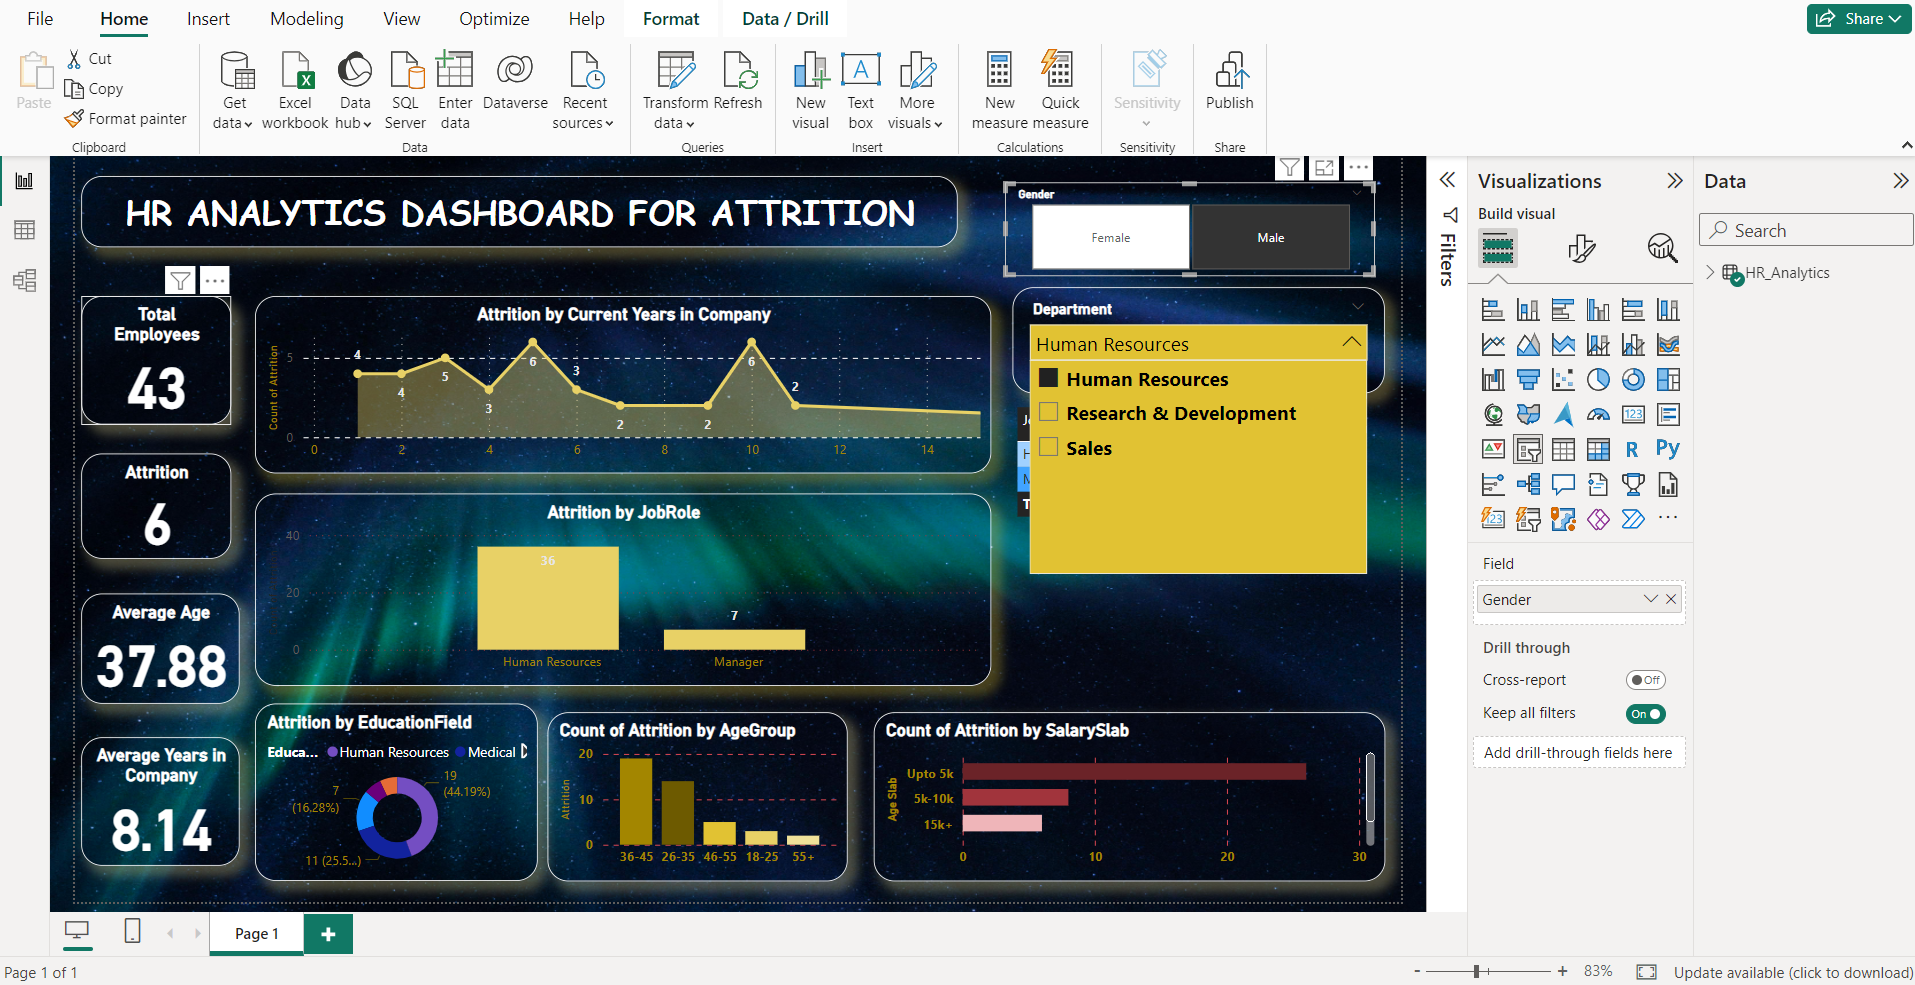

This screenshot's page, from the dashboard's own definition file:
{"tool":"powerbi","page":{"name":"Page 1","canvas":[1280,720],"ordinal":0},"visuals":[{"type":"card","title":"Total Employees","fields":{"Values":["Sum(HR_Analytics.EmployeeCount)"]},"box":[6,135.1,144.7,124.2],"z":0},{"type":"card","title":"Attrition","fields":{"Values":["Sum(HR_Analytics.Attrition_count)"]},"box":[6,287,144.7,101.3],"z":1000},{"type":"card","title":"Average Age","fields":{"Values":["Avg(HR_Analytics.Age)"]},"box":[6,422.1,153.2,106.1],"z":2000},{"type":"card","title":"Average Years in Company","fields":{"Values":["Avg(HR_Analytics.YearsAtCompany)"]},"box":[6,560.8,153.2,124.2],"z":3000},{"type":"donutChart","title":"Attrition by EducationField","fields":{"Y":["CountNonNull(HR_Analytics.Attrition)"],"Category":["HR_Analytics.EducationField"]},"box":[173.7,528.2,272.6,171.3],"z":4000},{"type":"columnChart","fields":{"Category":["HR_Analytics.AgeGroup"],"Y":["CountNonNull(HR_Analytics.Attrition)"]},"box":[455.9,536.7,289.4,162.8],"z":5000},{"type":"clusteredBarChart","fields":{"Y":["CountNonNull(HR_Analytics.Attrition)"],"Category":["HR_Analytics.SalarySlab"]},"box":[770.7,536.7,493.3,162.8],"z":6000},{"type":"columnChart","title":"Attrition by JobRole","fields":{"Category":["HR_Analytics.JobRole"],"Y":["CountNonNull(HR_Analytics.Attrition)"]},"box":[173.7,325.6,710.4,185.7],"z":7000},{"type":"areaChart","title":"Attrition by Current Years in Company","fields":{"Y":["CountNonNull(HR_Analytics.Attrition)"],"Category":["HR_Analytics.YearsAtCompany"]},"box":[173.7,135.1,710.4,171.3],"z":8000},{"type":"pivotTable","fields":{"Rows":["HR_Analytics.JobRole"],"Columns":["HR_Analytics.JobSatisfaction"],"Values":["Sum(HR_Analytics.EmployeeCount)"]},"box":[904.5,237.6,359.4,273.8],"z":9000},{"type":"slicer","title":"Gender","fields":{"Values":["HR_Analytics.Gender"]},"box":[897,25,357,91],"z":10000},{"type":"slicer","fields":{"Values":["HR_Analytics.Department"]},"box":[904.5,126.6,359.4,102.5],"z":11000},{"type":"textbox","box":[6,19.3,845.4,68.7],"z":12000}]}

Visuals, with their boxes on the page's 1280x720 design canvas (x1, y1, x2, y2). These are canvas units, not pixel positions in the 1915x985 screenshot, which may show the page scaled, cropped or inside an application window:
"Total Employees" card: left=6, top=135, right=151, bottom=259
"Attrition" card: left=6, top=287, right=151, bottom=388
"Average Age" card: left=6, top=422, right=159, bottom=528
"Average Years in Company" card: left=6, top=561, right=159, bottom=685
"Attrition by EducationField" donutChart: left=174, top=528, right=446, bottom=700
columnChart - HR_Analytics.AgeGroup x CountNonNull(HR_Analytics.Attrition): left=456, top=537, right=745, bottom=700
clusteredBarChart - CountNonNull(HR_Analytics.Attrition) x HR_Analytics.SalarySlab: left=771, top=537, right=1264, bottom=700
"Attrition by JobRole" columnChart: left=174, top=326, right=884, bottom=511
"Attrition by Current Years in Company" areaChart: left=174, top=135, right=884, bottom=306
pivotTable - HR_Analytics.JobRole x HR_Analytics.JobSatisfaction: left=904, top=238, right=1264, bottom=511
"Gender" slicer: left=897, top=25, right=1254, bottom=116
slicer - HR_Analytics.Department: left=904, top=127, right=1264, bottom=229
textbox: left=6, top=19, right=851, bottom=88
